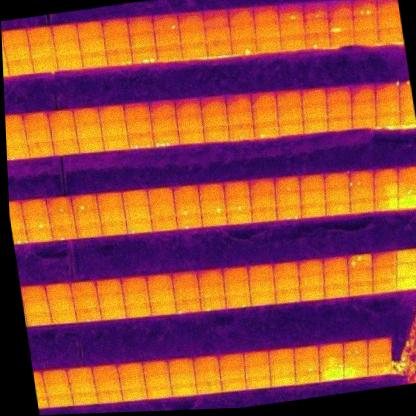Diode: (327, 14, 354, 33)
Hotspot: (151, 11, 179, 33), (31, 54, 59, 75), (276, 1, 304, 22), (173, 295, 202, 315), (49, 222, 78, 242), (222, 192, 251, 212), (45, 194, 74, 214), (227, 121, 256, 141), (154, 43, 183, 63), (125, 217, 153, 237), (273, 174, 301, 194), (252, 118, 280, 138), (127, 130, 155, 150), (130, 44, 158, 64), (104, 47, 132, 67), (150, 214, 178, 233), (71, 193, 99, 212), (151, 128, 179, 147), (275, 202, 302, 221), (176, 211, 203, 230), (199, 196, 226, 215), (174, 197, 201, 216), (373, 80, 400, 99), (304, 30, 331, 49), (223, 292, 251, 310), (24, 310, 52, 328), (346, 252, 374, 270), (348, 169, 374, 188), (323, 170, 349, 189), (302, 0, 328, 19), (199, 294, 226, 312), (198, 280, 225, 298), (273, 189, 300, 207), (24, 212, 51, 230), (293, 357, 321, 374), (341, 338, 369, 355), (75, 306, 101, 324), (231, 36, 257, 54), (6, 142, 30, 161), (350, 0, 378, 16), (318, 354, 344, 371), (373, 195, 398, 212), (5, 111, 25, 131), (397, 178, 416, 197)
Normal: (247, 175, 277, 196), (195, 180, 225, 201), (255, 34, 283, 56), (176, 9, 205, 30), (297, 172, 327, 192), (125, 14, 155, 34), (280, 32, 307, 54), (150, 112, 178, 133), (125, 115, 153, 136), (199, 92, 227, 113), (74, 220, 103, 240), (171, 183, 200, 203), (95, 188, 124, 208), (20, 197, 49, 217), (275, 102, 304, 122), (249, 89, 278, 109), (54, 52, 83, 72), (77, 34, 106, 54), (100, 17, 129, 37), (75, 19, 104, 39), (25, 25, 54, 45), (250, 204, 278, 224), (77, 134, 105, 154), (27, 140, 55, 160), (226, 106, 254, 126), (175, 110, 203, 130), (49, 121, 77, 141), (22, 109, 50, 129), (302, 15, 330, 35), (6, 56, 34, 76), (253, 18, 281, 38), (178, 25, 206, 45), (251, 3, 279, 23), (226, 6, 254, 26), (222, 178, 251, 197), (278, 116, 305, 136), (25, 123, 52, 143), (1, 26, 28, 46), (222, 277, 250, 296), (296, 256, 324, 275), (246, 261, 274, 280), (170, 268, 198, 287), (123, 202, 151, 221), (98, 204, 126, 223), (374, 108, 402, 127), (324, 84, 352, 103), (80, 50, 108, 69), (128, 30, 156, 49), (50, 23, 78, 42), (274, 285, 301, 304), (196, 265, 223, 284), (20, 283, 47, 302), (324, 198, 351, 217), (300, 200, 327, 219), (26, 226, 53, 245), (147, 185, 174, 204), (351, 111, 378, 130), (302, 114, 329, 133), (178, 126, 205, 145), (52, 137, 79, 156), (251, 104, 278, 123), (201, 109, 228, 128), (75, 118, 102, 137), (225, 91, 252, 110), (148, 97, 175, 116), (278, 16, 305, 35), (103, 32, 130, 51), (28, 40, 55, 59), (4, 42, 31, 61), (201, 10, 228, 29), (371, 275, 399, 293), (371, 262, 399, 280), (122, 286, 150, 304), (145, 270, 173, 288), (225, 208, 253, 226), (100, 219, 128, 237), (298, 187, 326, 205), (73, 207, 101, 225), (121, 187, 149, 205), (349, 96, 377, 114), (300, 100, 328, 118), (349, 82, 377, 100), (100, 117, 128, 135), (300, 86, 328, 104), (274, 88, 302, 106), (53, 37, 81, 55), (100, 302, 126, 321), (102, 131, 128, 150), (181, 40, 207, 59), (375, 10, 401, 29), (249, 192, 278, 209), (347, 278, 374, 296), (323, 281, 350, 299), (299, 283, 326, 301), (249, 288, 276, 306), (148, 284, 175, 302), (97, 288, 124, 306), (72, 291, 99, 309), (321, 254, 348, 272), (221, 263, 248, 281), (349, 196, 376, 214), (366, 360, 393, 378), (148, 200, 175, 218), (326, 113, 353, 131), (374, 95, 401, 113), (123, 100, 150, 118), (72, 105, 99, 123), (47, 107, 74, 125), (352, 27, 379, 45), (229, 22, 256, 40), (203, 25, 230, 43), (242, 348, 269, 366), (142, 358, 169, 376), (116, 360, 143, 378), (124, 301, 152, 318), (321, 269, 349, 286), (325, 100, 353, 117), (70, 390, 98, 407), (267, 359, 295, 376), (325, 0, 353, 17), (291, 345, 319, 362), (266, 347, 294, 364), (66, 366, 94, 383), (41, 368, 69, 385), (71, 278, 97, 296), (174, 95, 200, 113), (98, 102, 124, 120), (352, 14, 378, 32), (154, 28, 180, 46), (50, 307, 77, 324), (298, 271, 325, 288), (324, 186, 351, 203), (269, 371, 296, 388), (245, 373, 272, 390), (220, 376, 247, 393), (195, 378, 222, 395), (121, 385, 148, 402), (328, 30, 355, 47), (205, 39, 232, 56), (317, 341, 344, 358), (91, 364, 118, 381), (373, 167, 398, 185), (346, 266, 374, 282), (248, 275, 276, 291), (22, 298, 50, 314), (120, 274, 148, 290), (94, 276, 122, 292), (47, 210, 75, 226), (170, 382, 198, 398), (46, 391, 74, 407), (143, 371, 171, 387), (192, 356, 220, 372), (150, 298, 176, 315), (273, 272, 299, 289), (48, 294, 74, 311), (201, 211, 227, 228), (146, 383, 172, 400), (203, 125, 229, 142), (378, 27, 404, 44), (366, 336, 392, 353), (218, 353, 244, 370), (172, 283, 199, 299), (370, 250, 397, 266), (272, 260, 299, 276), (45, 282, 72, 298), (342, 363, 369, 379), (96, 387, 123, 403), (342, 351, 369, 367), (243, 362, 270, 378), (118, 374, 145, 390), (167, 358, 194, 374), (68, 379, 96, 394), (43, 381, 71, 396), (372, 182, 398, 198), (349, 184, 375, 200), (169, 370, 195, 386), (318, 367, 345, 382), (93, 377, 120, 392), (394, 260, 416, 278), (295, 370, 321, 385), (366, 348, 392, 363), (219, 366, 245, 381), (6, 126, 26, 145), (394, 273, 416, 290), (194, 369, 220, 383), (396, 164, 416, 181), (374, 0, 399, 13), (397, 193, 416, 210), (395, 248, 416, 263)
